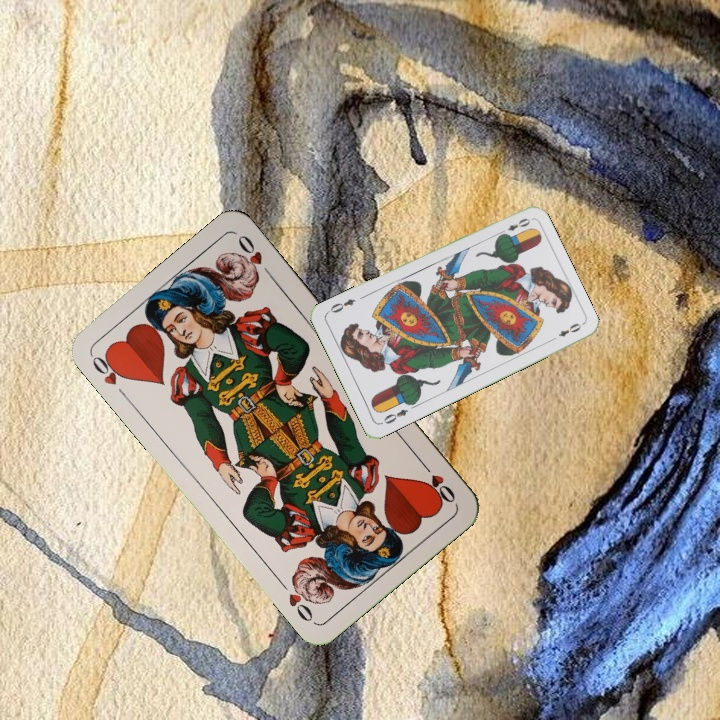EO: (494, 214, 533, 238), (379, 405, 411, 427)
HO: (416, 456, 458, 506), (87, 348, 131, 388)
